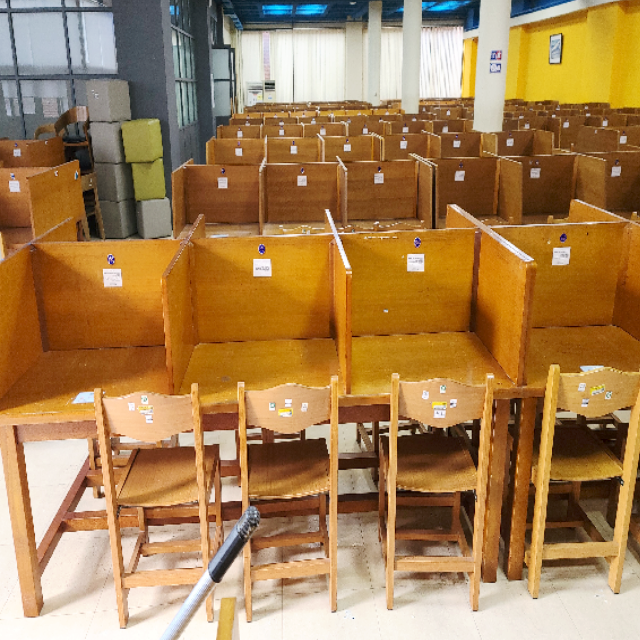empty: (169, 231, 349, 482), (1, 223, 163, 476), (359, 230, 521, 480)
